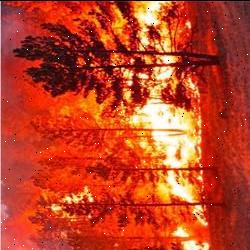fire: (50, 0, 209, 249)
